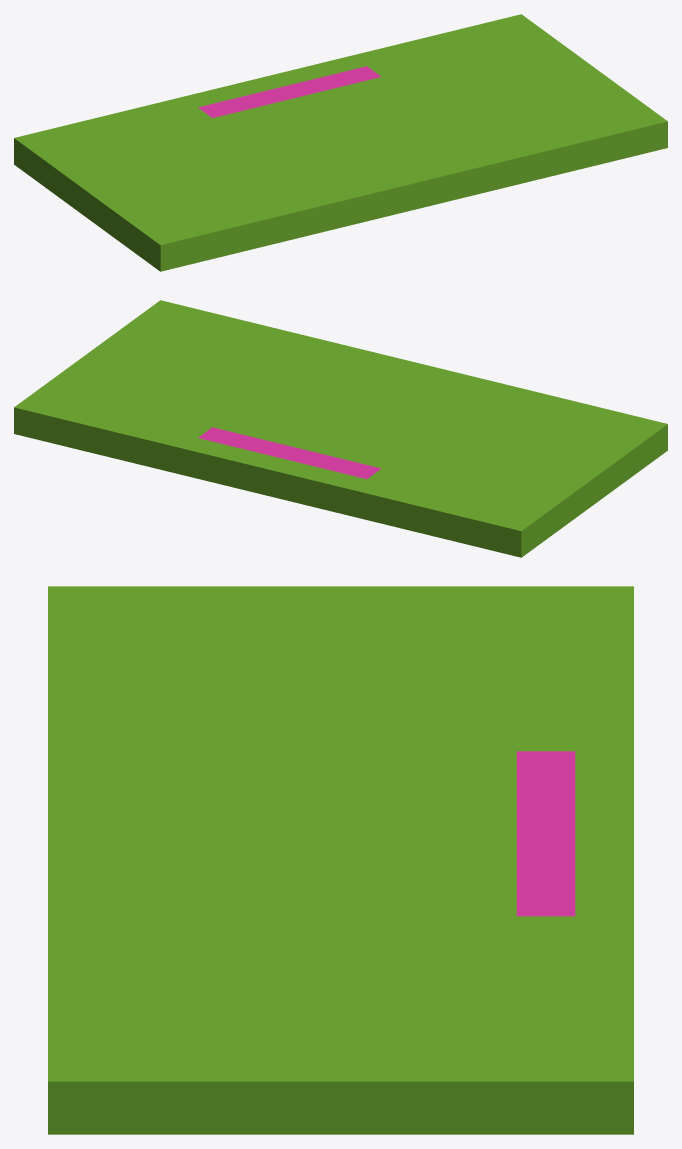
File: 2t_tile.fbx
3 renders of one model, top to bottom at view 1: azimuth 30°, elevation 25°; view 2: azimuth 150°, elevation 25°; view 3: azimuth 270°, elevation 25°, orthographic. The views are drawn at different scales.
Visible parts, largest first — view 1: 2t building; view 2: 2t building; view 3: 2t building.
Boxes of the visible parts, left/top/right/bottom form: 2t building: left=14, top=14, right=667, bottom=271; 2t building: left=14, top=300, right=667, bottom=557; 2t building: left=48, top=586, right=633, bottom=1134.
Size of the model in its own units: 8 by 0.4 by 4.
